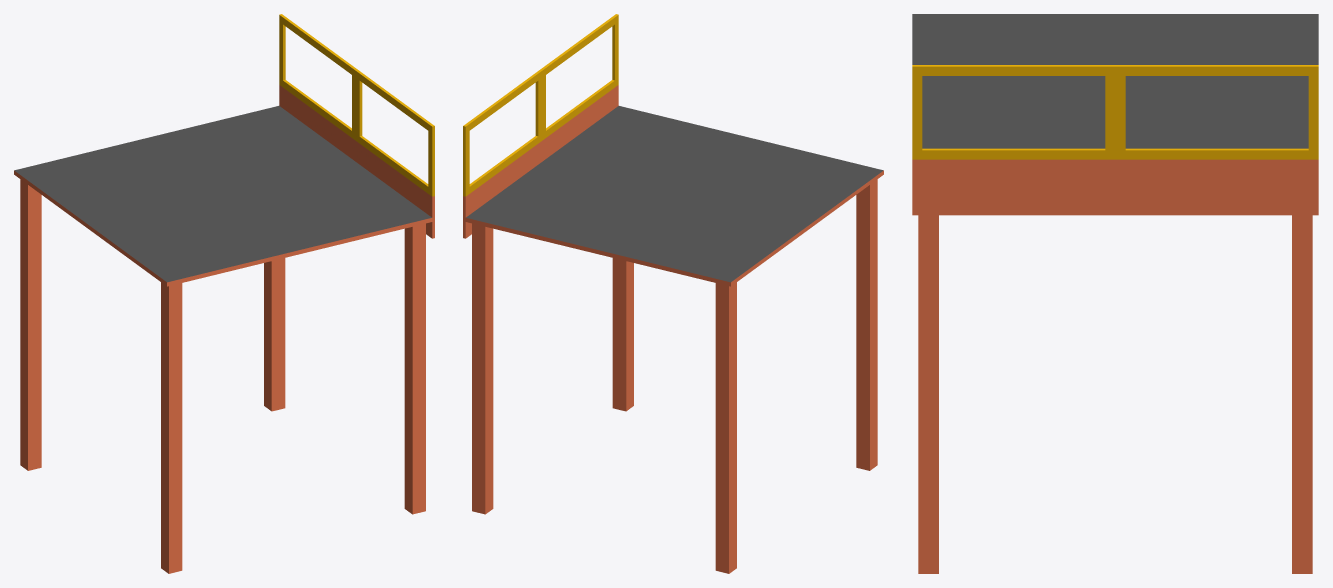
The model's file is Prop_Industrial_Platform_Walkway_Wide_Side_01.FBX.
3 views of the same model, side by side, from view 1: azimuth 30°, elevation 25°; view 2: azimuth 150°, elevation 25°; view 3: azimuth 270°, elevation 25° (orthographic). The views are drawn at different scales.
Visible parts, largest first — view 1: Prop_Industrial_Platform_Walkway_Wide_Side_01; view 2: Prop_Industrial_Platform_Walkway_Wide_Side_01; view 3: Prop_Industrial_Platform_Walkway_Wide_Side_01.
Boxes of the visible parts, box(x1,y1,x2,y2) form: Prop_Industrial_Platform_Walkway_Wide_Side_01: box(14, 14, 434, 573); Prop_Industrial_Platform_Walkway_Wide_Side_01: box(463, 14, 883, 573); Prop_Industrial_Platform_Walkway_Wide_Side_01: box(912, 14, 1318, 573).
Size of the model in its own units: 4000 by 5500 by 3960.
